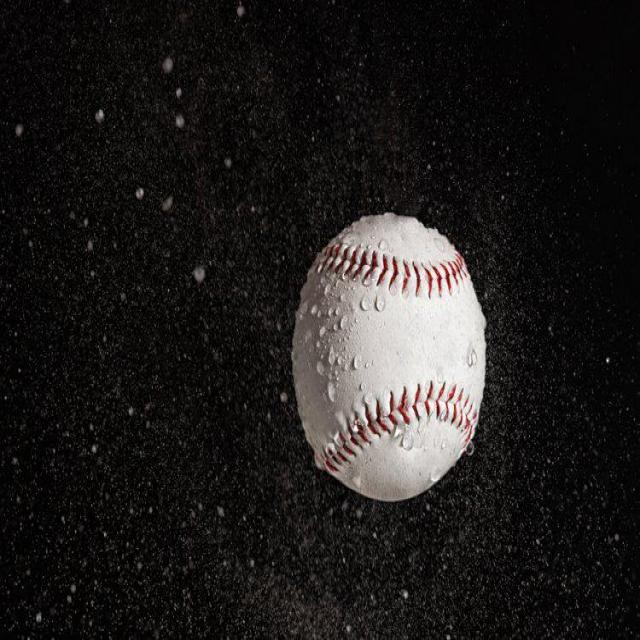baseball: (289, 210, 488, 502)
